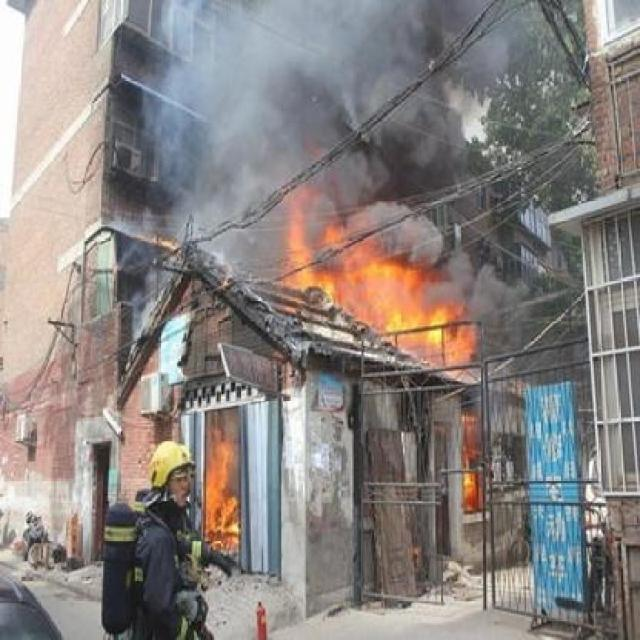Fire: (280, 177, 480, 369), (200, 416, 243, 556), (462, 402, 490, 516)
Smoke: (165, 0, 494, 206)
